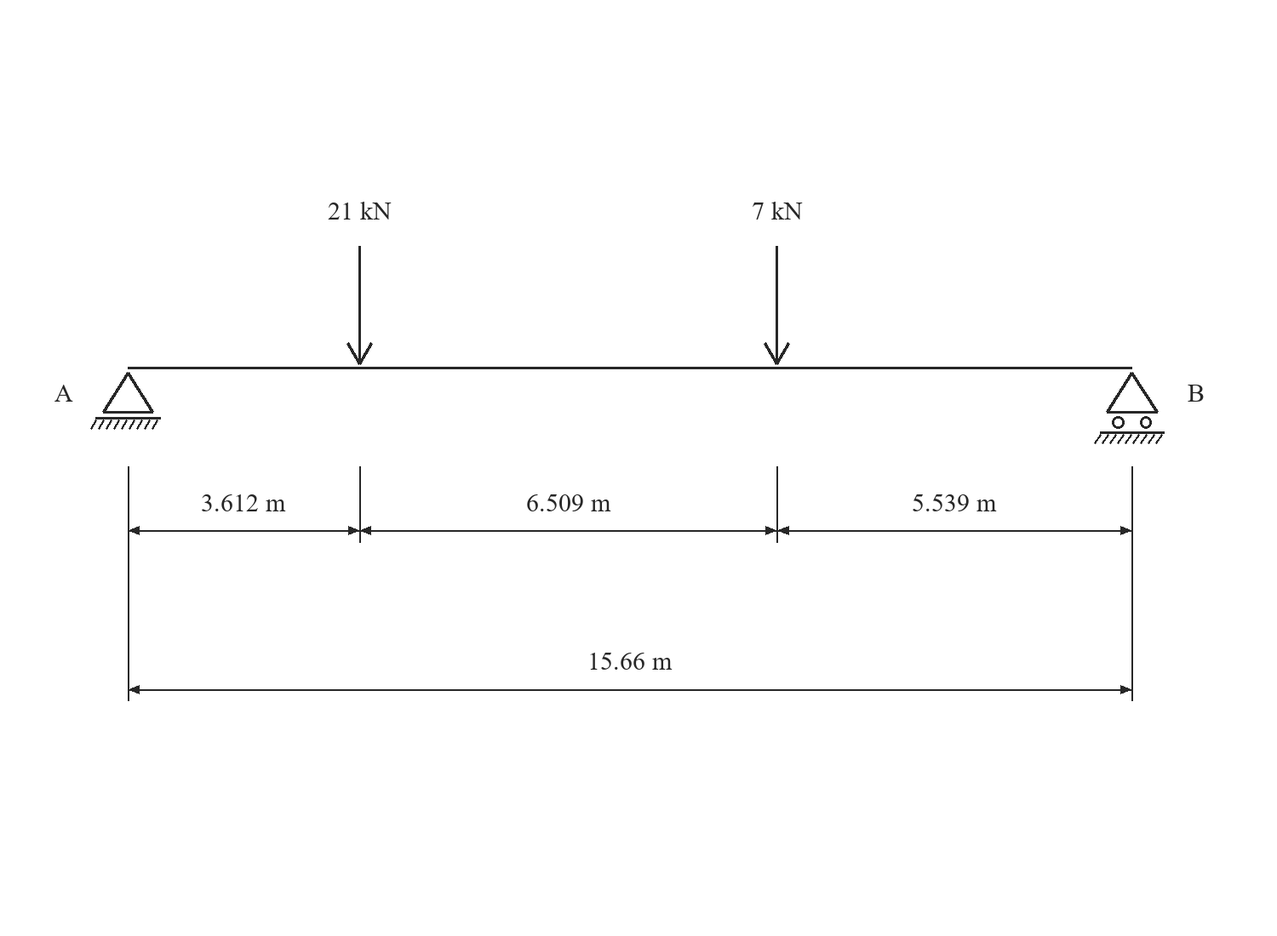pin_support: (90, 372, 161, 430)
point_load: (346, 246, 373, 365), (764, 246, 790, 365)
roller_support: (1094, 372, 1165, 444)
